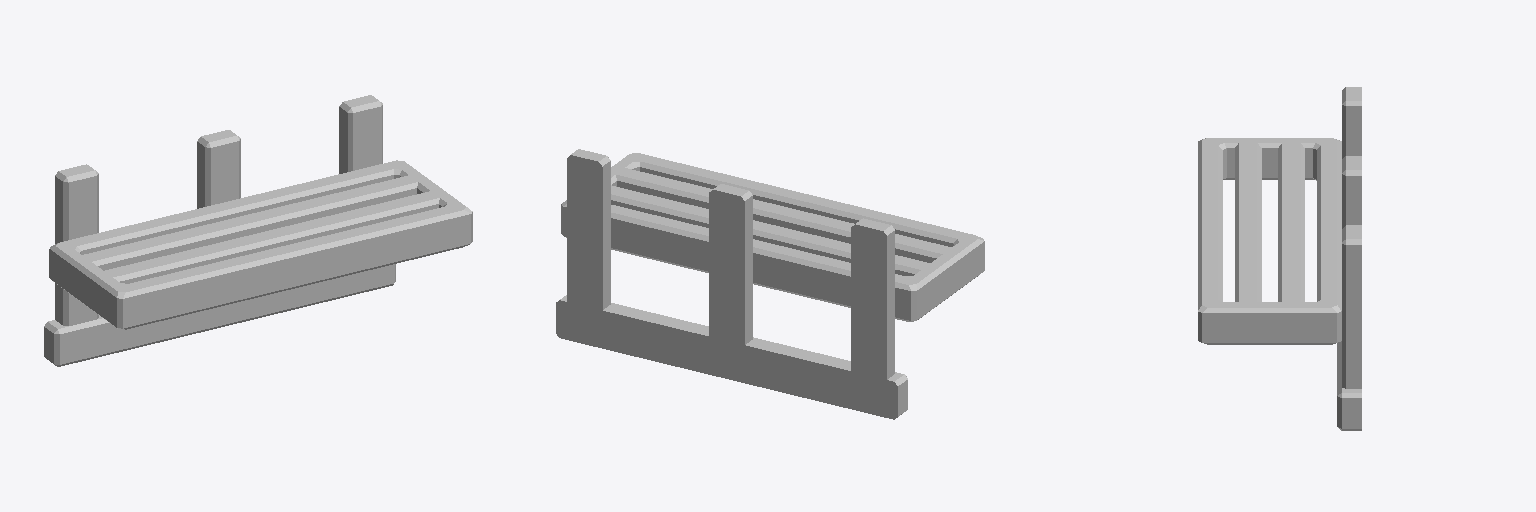
Rendered from wall_shelf_bakery_B.obj.
3 views of the same model, side by side, from view 1: azimuth 30°, elevation 25°; view 2: azimuth 150°, elevation 25°; view 3: azimuth 270°, elevation 25° (orthographic).
Parts seen in each view (by area): view 1: wall_shelf_bakery_B; view 2: wall_shelf_bakery_B; view 3: wall_shelf_bakery_B.
Part boxes in pixels (x1,y1,x2,y2): wall_shelf_bakery_B: (44,95,472,366); wall_shelf_bakery_B: (556,149,984,419); wall_shelf_bakery_B: (1198,87,1361,430).
Size of the model in its own units: 2 by 1 by 0.8.